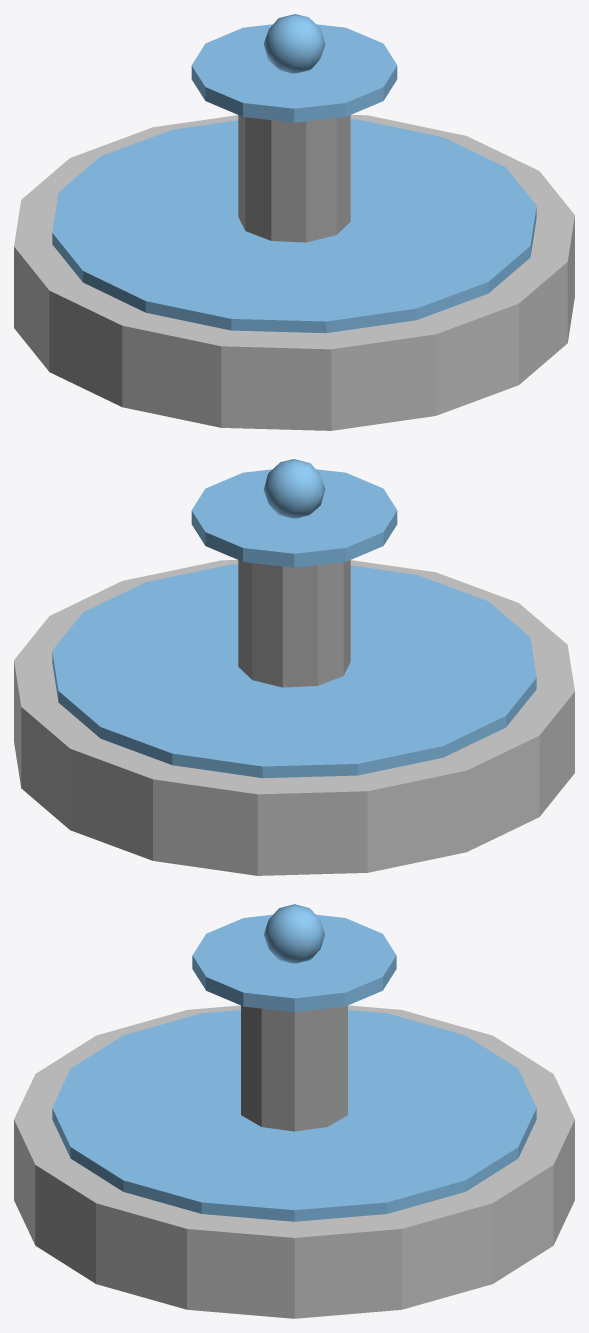
Rendered from air_mancur.glb.
3 views of the same model, one above another, from view 1: azimuth 30°, elevation 25°; view 2: azimuth 150°, elevation 25°; view 3: azimuth 270°, elevation 25° (orthographic).
Bounding box in the file's own units: 2.2 × 1.27 × 2.2.
